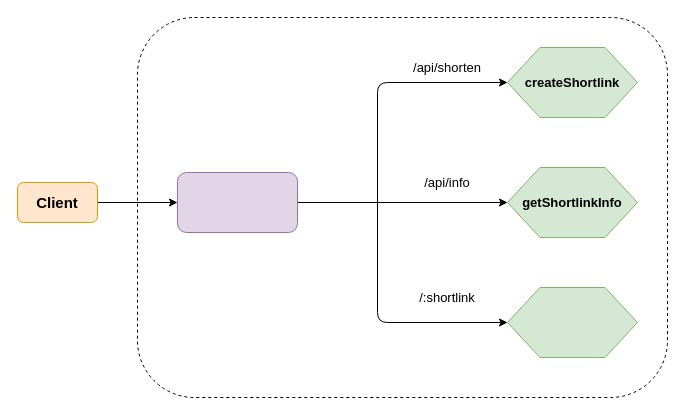
Image size: 685x415. Some labels were removed from this diagram. Here are the shapes that lost their labels. From the top down, the box of each, then its label:
(176, 172, 298, 232): Mux
(506, 286, 638, 358): redirect
